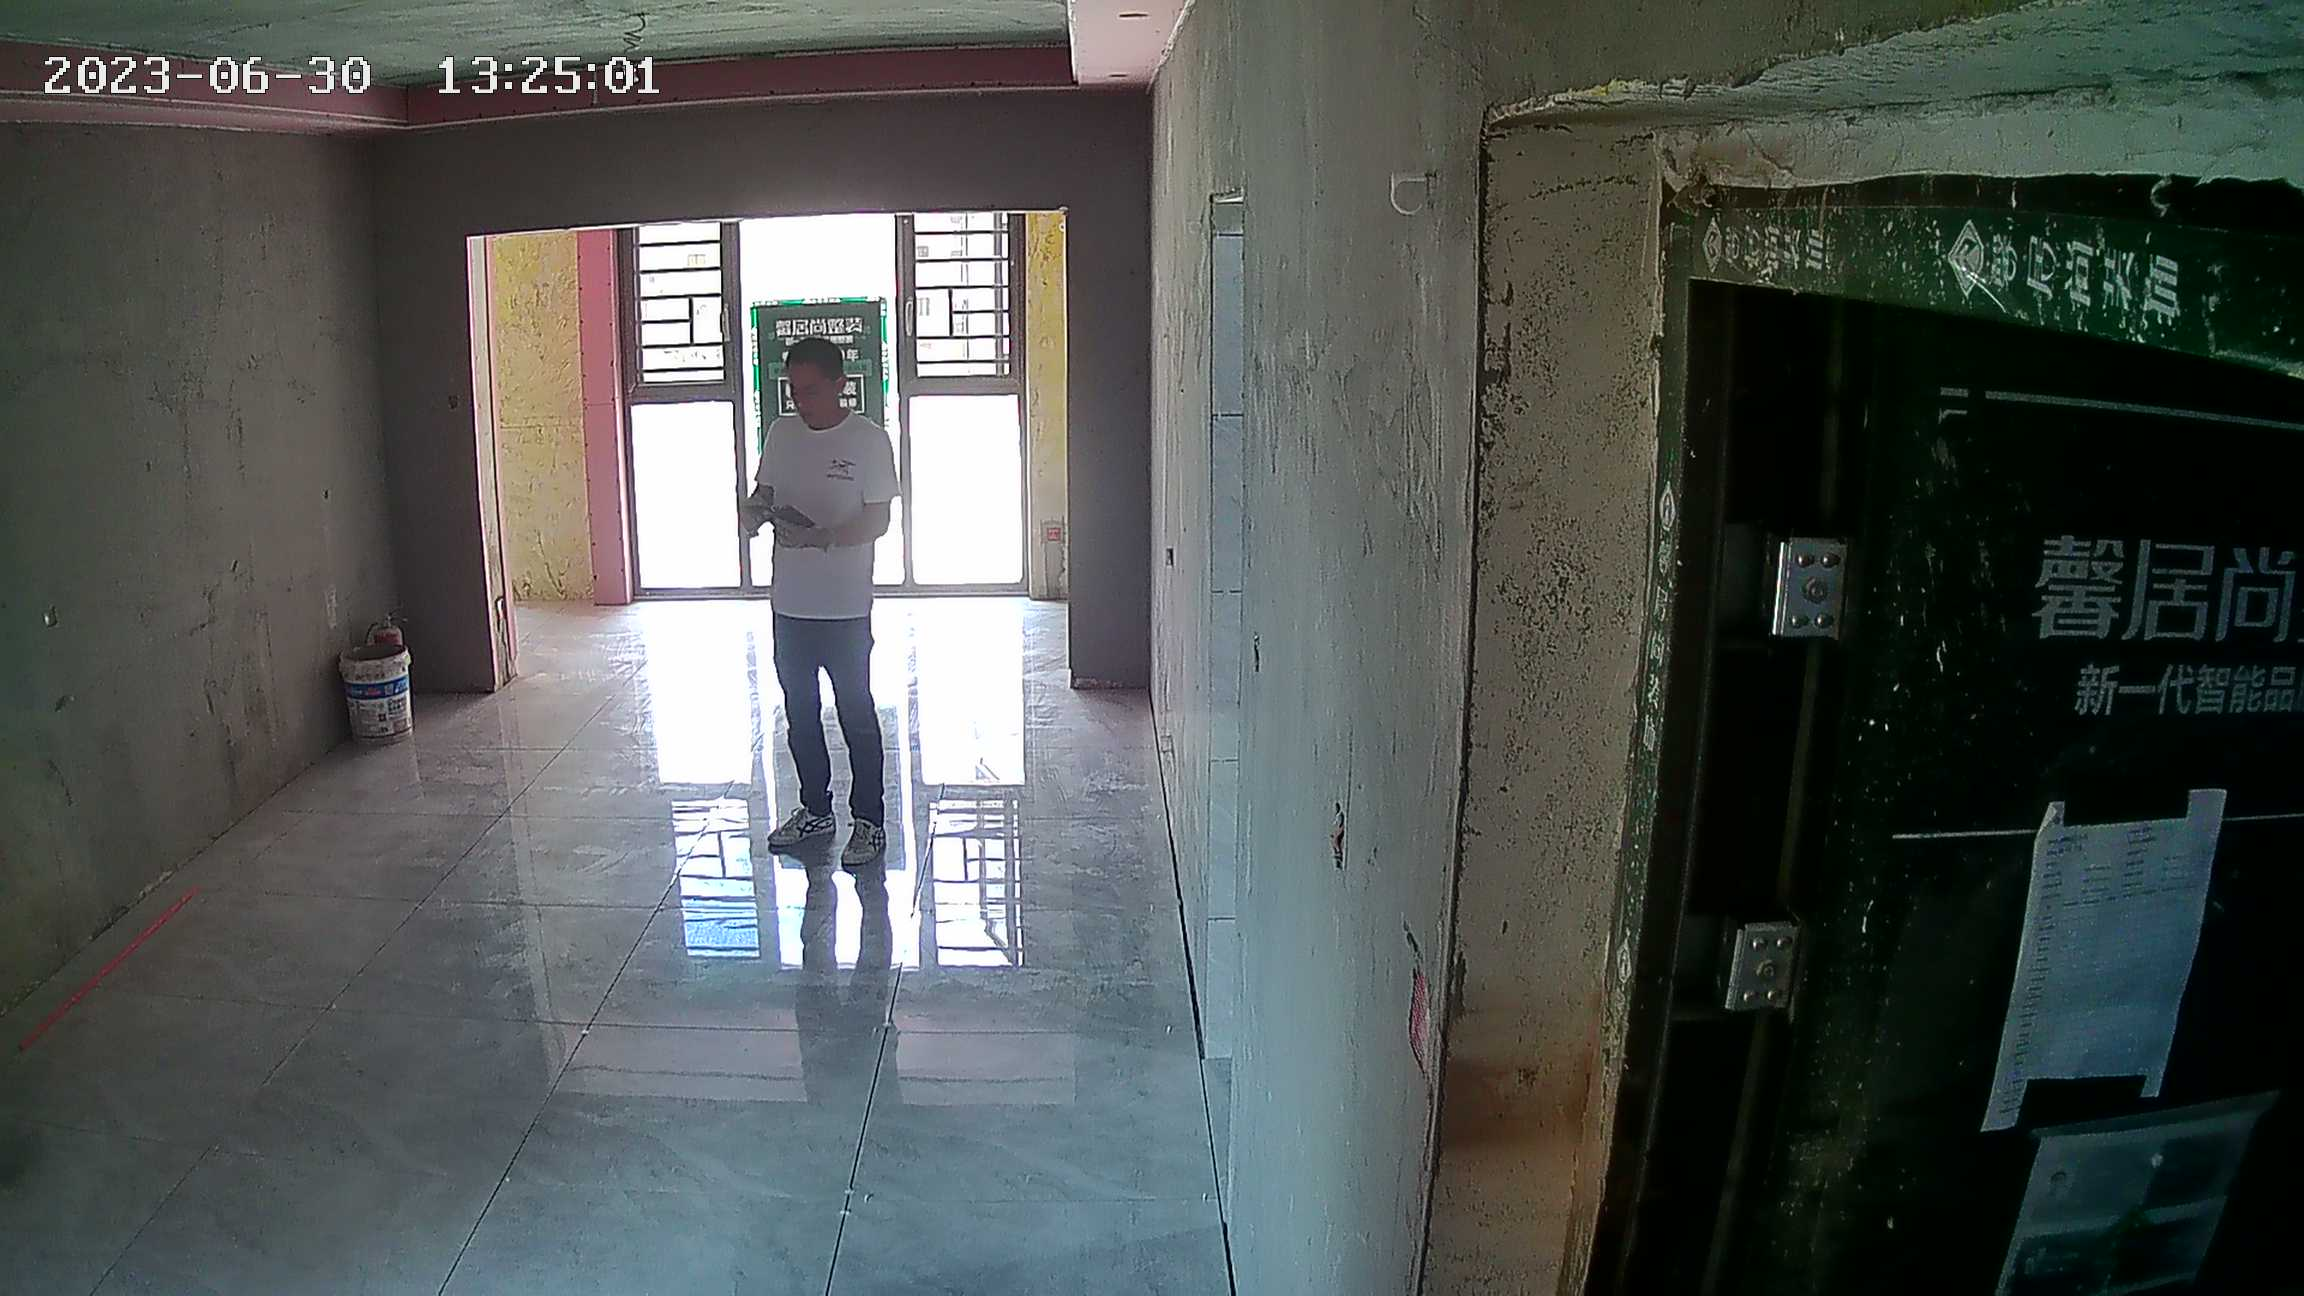people: (736, 324, 913, 877)
window: (575, 212, 1031, 602)
